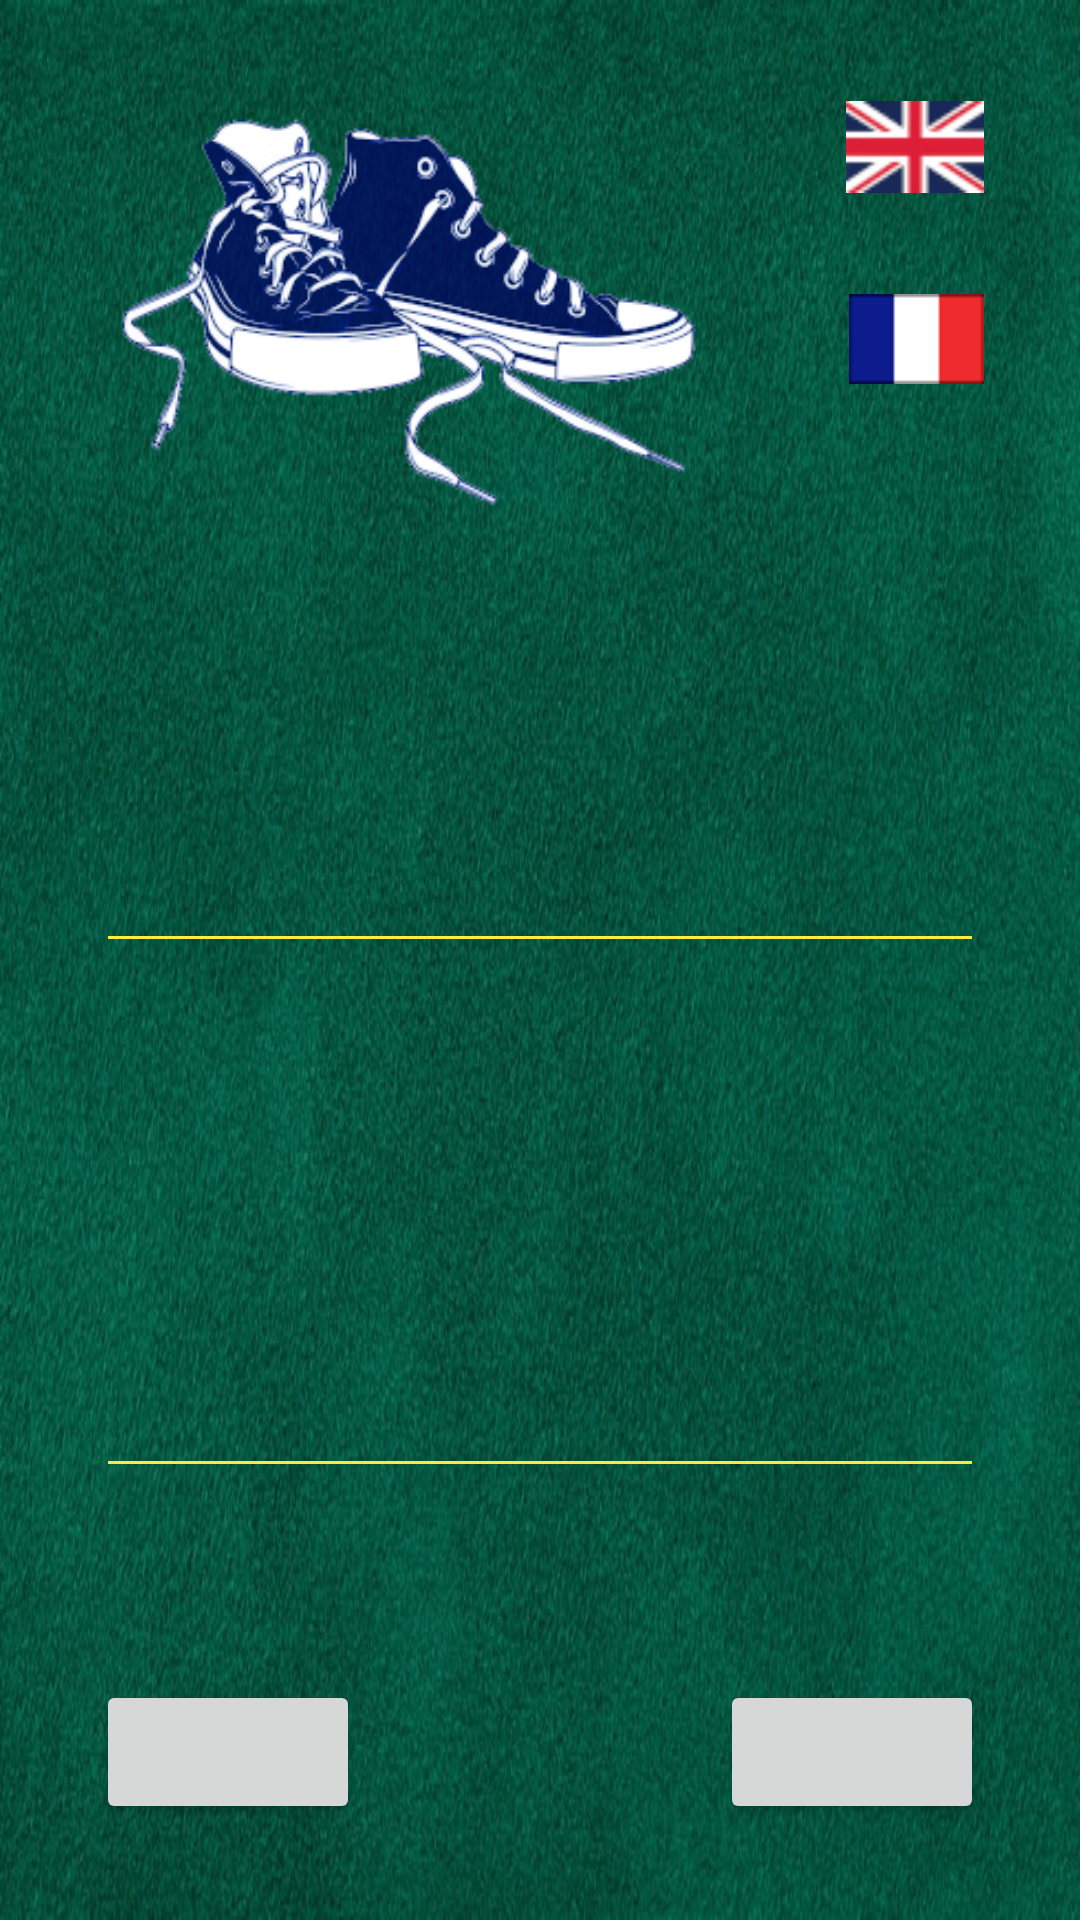

Named icons in this screenshot (1080x1920) and their bounding boxes, (x1, y1, x2, y2):
Image of English flag: (846, 96, 984, 197)
Image of French flag: (849, 294, 984, 384)
